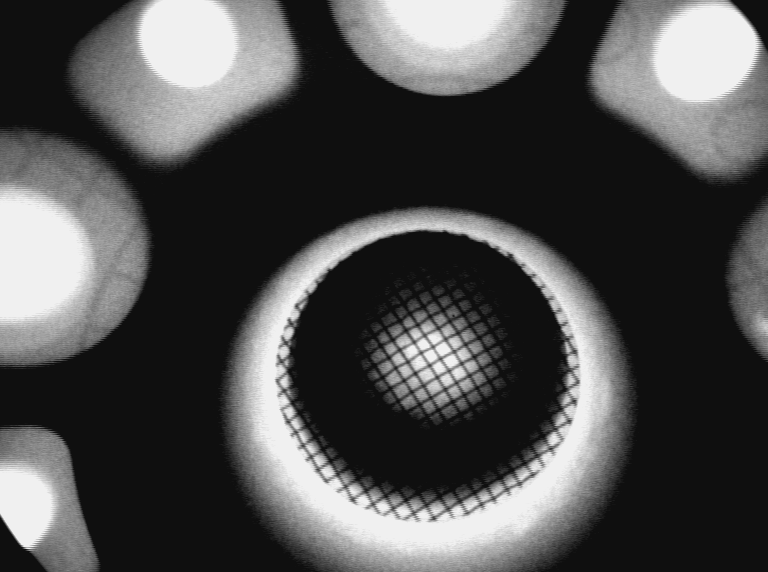defect: (745, 305, 767, 360)
